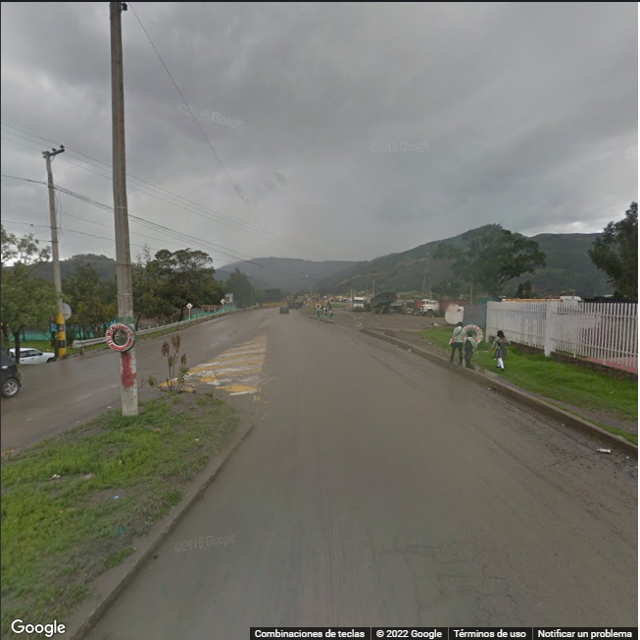D00: (401, 545, 426, 627), (502, 569, 523, 628), (472, 585, 492, 623)
D10: (426, 571, 472, 580)
